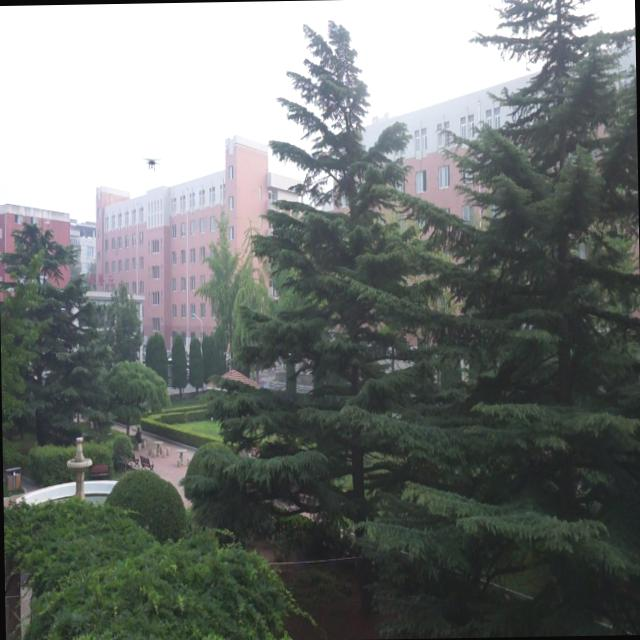drone: (138, 152, 162, 176)
